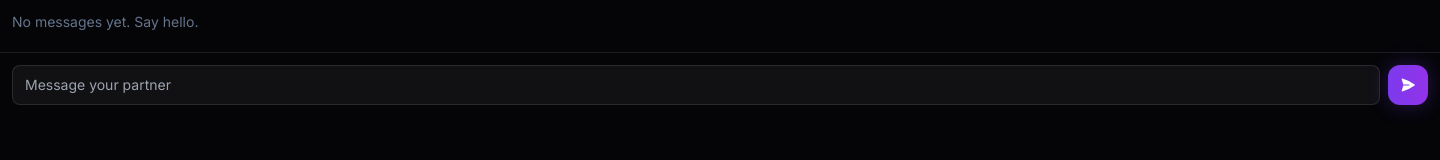
Test: ChatPanel › sends a message and clears the box; keeps the text and shows why when it fails
Expected: the button named "Send message" is disabled, [1388,65,1428,105]
Type "hello" into the field labelled "Message" at [696, 85], box [12,65,1380,105]
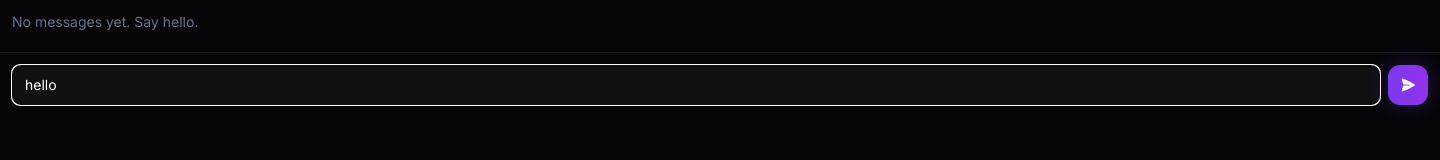
Click the button named "Send message" at [1408, 85], box [1388,65,1428,105]
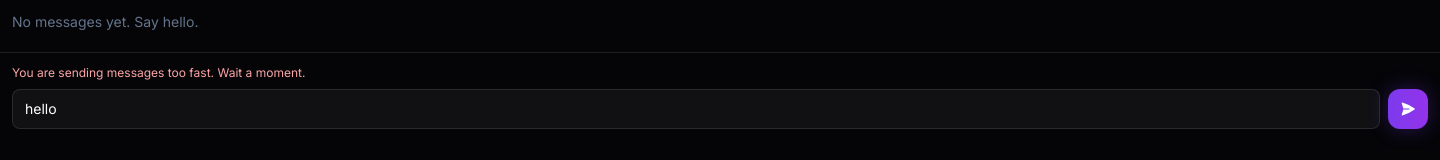
Expected: the message shows "too fast", [12,65,305,80]
Click the button named "Send message" at [1408, 109], box [1388,89,1428,129]
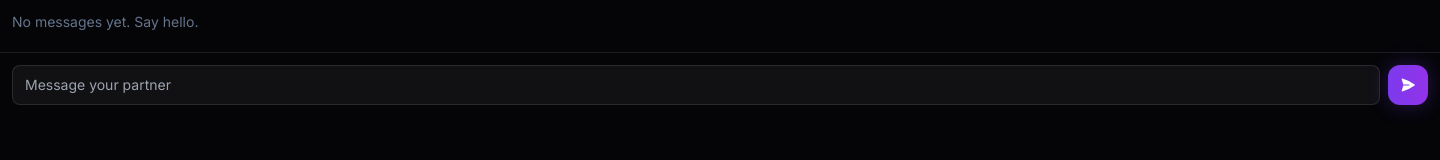
Expected: the field labelled "Message" is empty, [12,65,1380,105]
Expected: the message "You are sending messages too fast. Wait a moment." is gone
